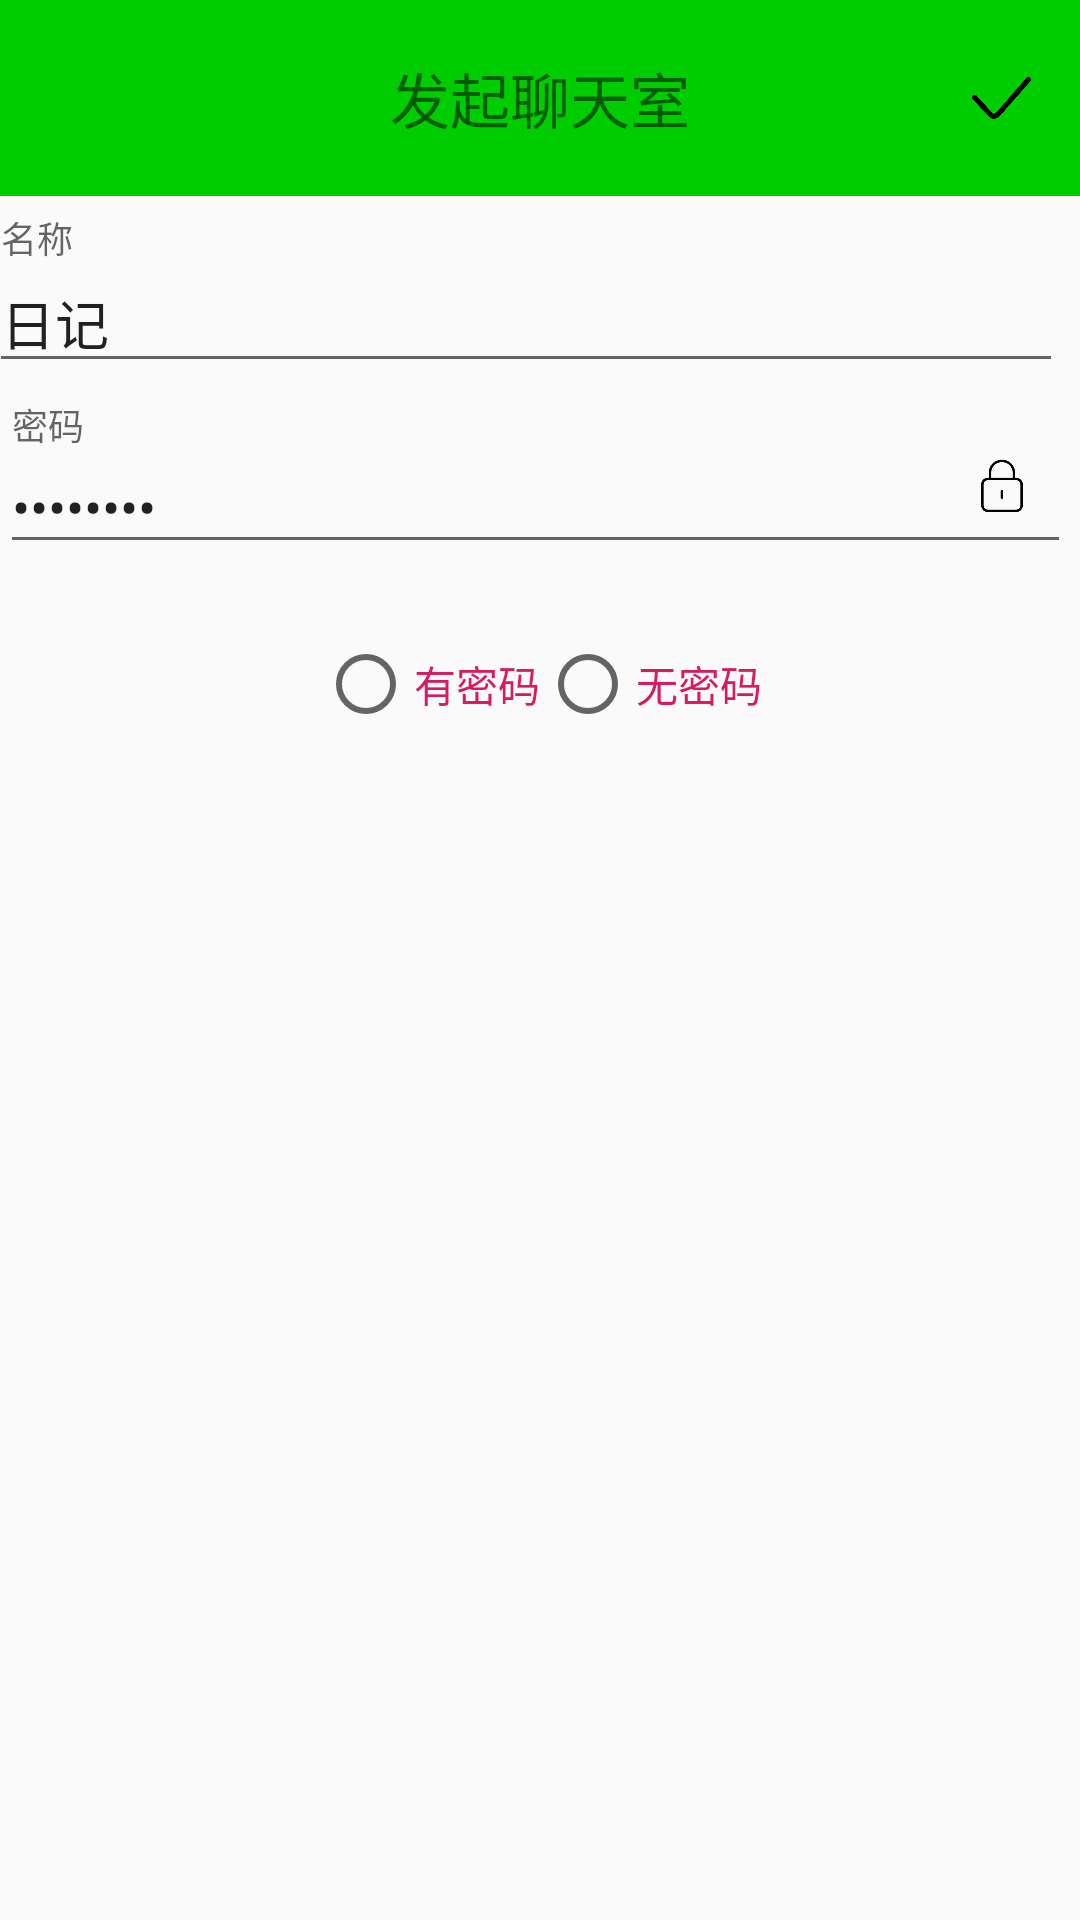

Point at icon controls on the screen. Image size 1080 x 1920, points as (x,y).
choosen: (1001,98)
unlock: (1002,485)
